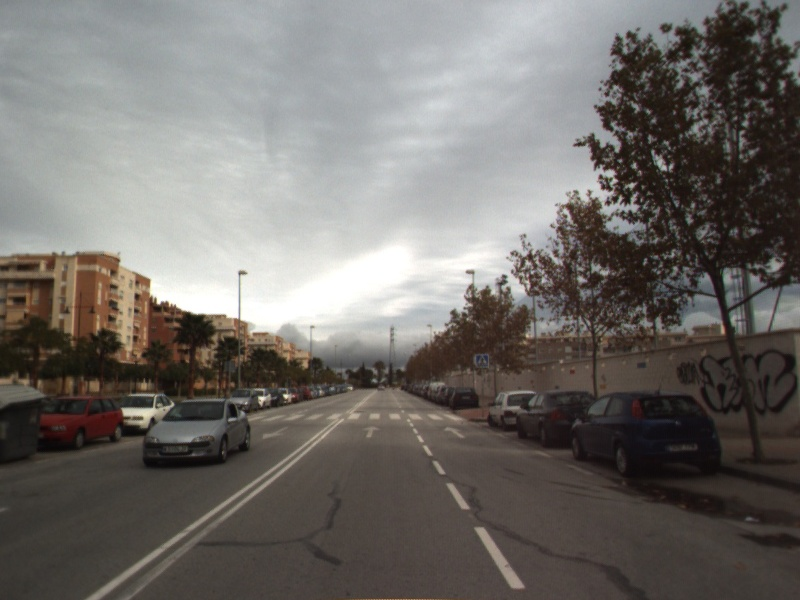STRAIGHT: (442, 424, 468, 440), (361, 424, 383, 439)
